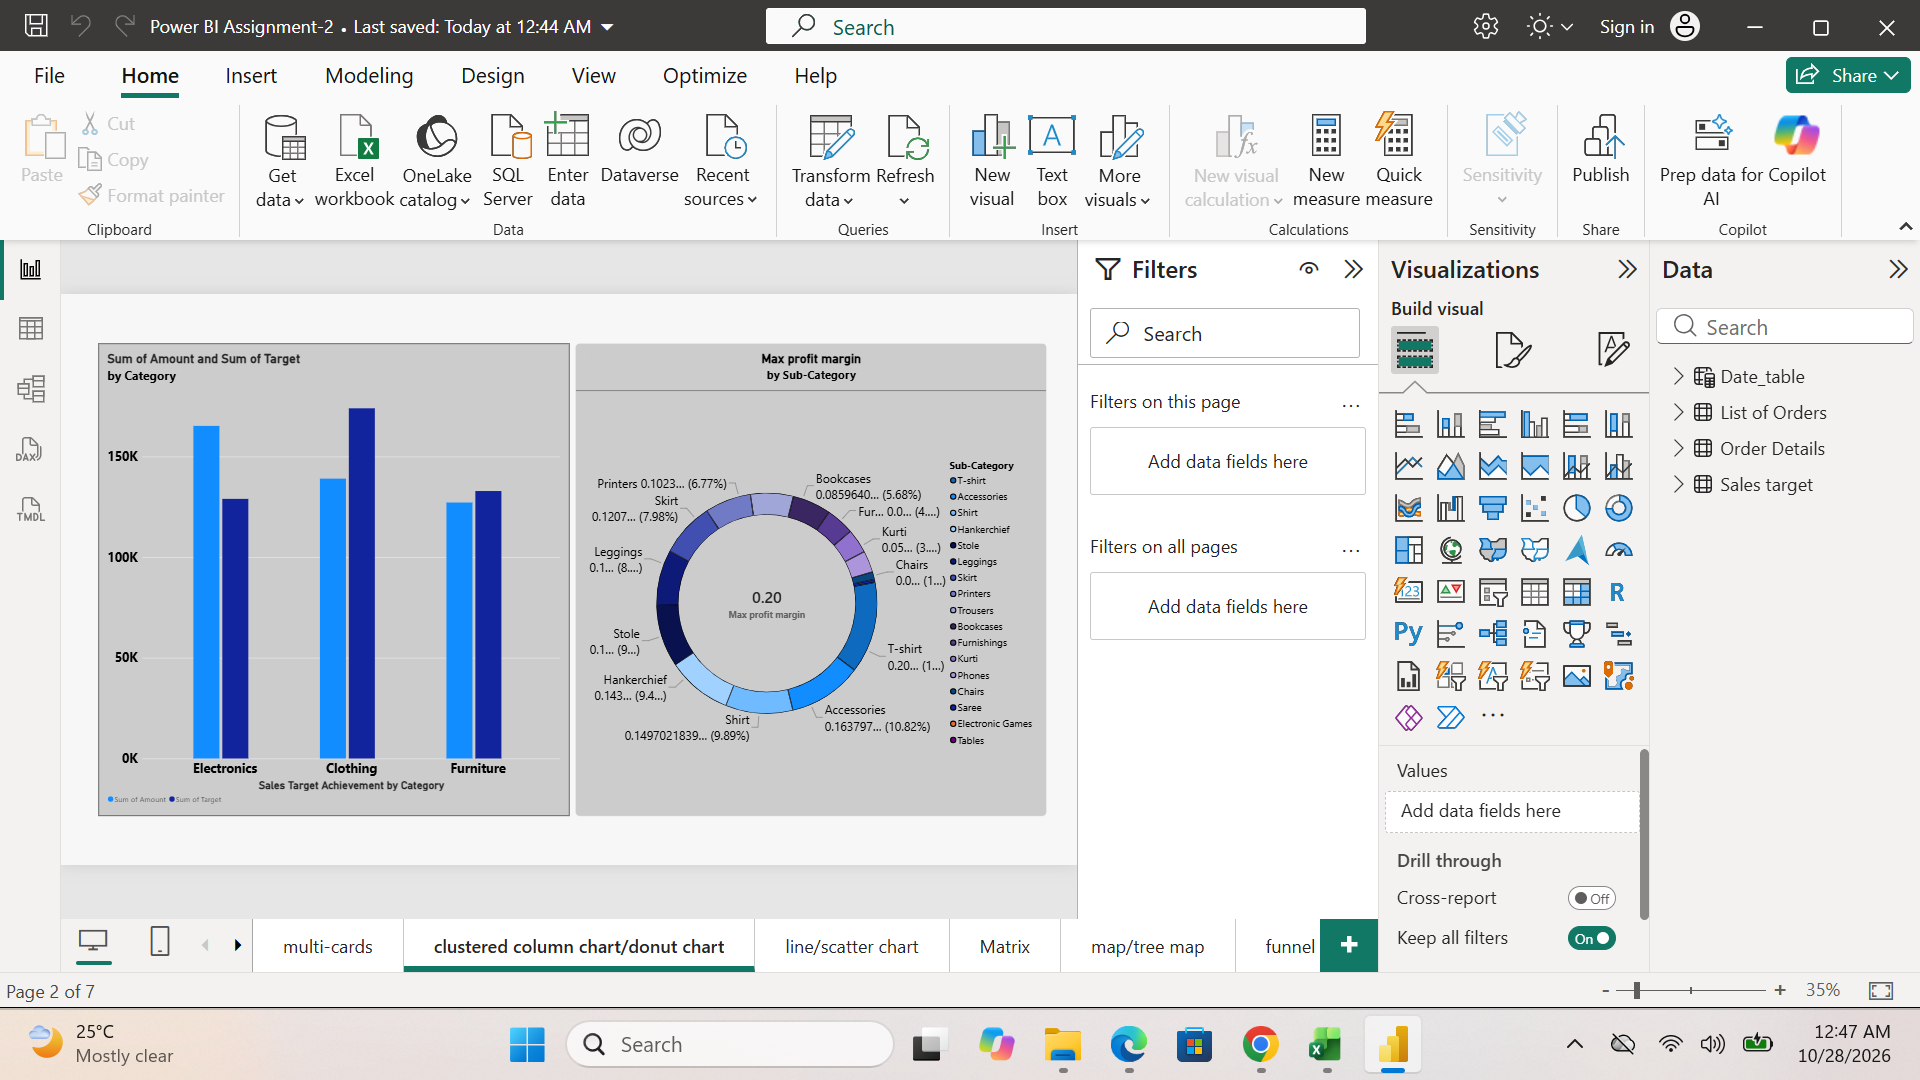

Layout of this report page (visuals, bound fields, positions):
{"tool":"powerbi","page":{"name":"clustered column chart/donut chart","canvas":[1920,1080],"ordinal":1},"visuals":[{"type":"clusteredColumnChart","fields":{"Category":["Order Details .Category"],"Y":["Sum(Order Details .Amount)","Sum(Sales target .Target)"]},"box":[70.9,93.5,890.1,892.9],"z":0},{"type":"donutChart","fields":{"Category":["Order Details .Sub-Category"],"Y":["Order Details .Max profit margin"]},"box":[971,94,890,893],"z":1}]}

Visuals, with their boxes on the page's 1920x1080 design canvas (x1, y1, x2, y2). These are canvas units, not pixel positions in the 1920x1080 screenshot, which may show the page scaled, cropped or inside an application window:
clusteredColumnChart - Order Details .Category x Sum(Order Details .Amount): [71,94,961,986]
donutChart - Order Details .Sub-Category x Order Details .Max profit margin: [971,94,1861,987]
